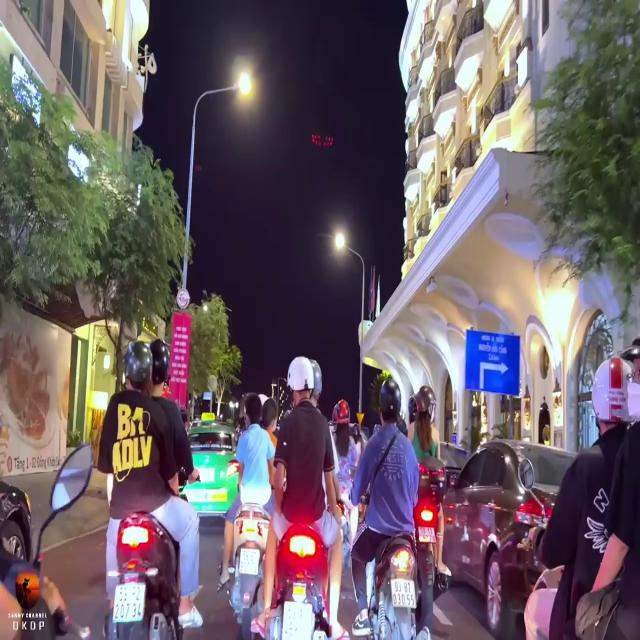bien_trang: (112, 584, 146, 626), (388, 578, 418, 608)
